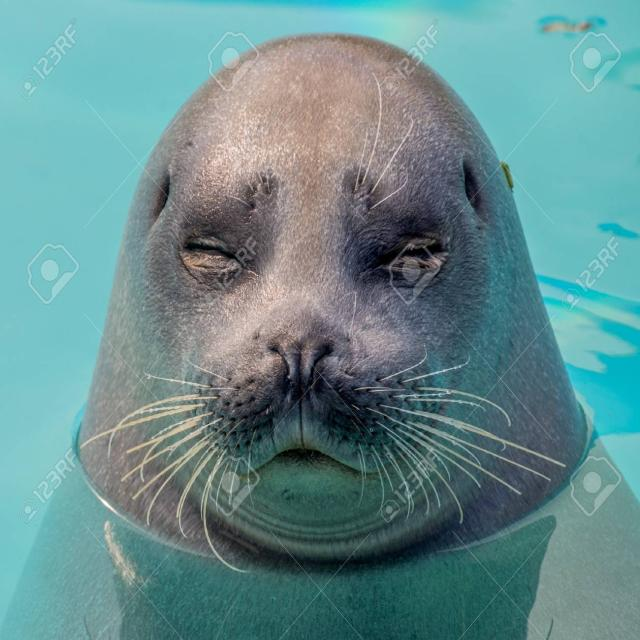WaterDog: (80, 35, 561, 578)
